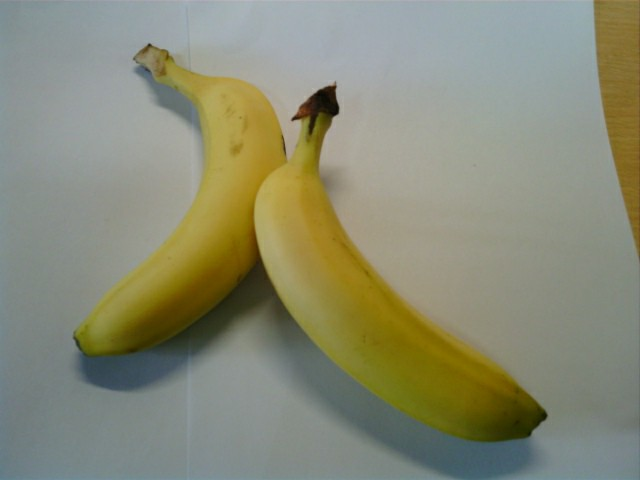fresh_banana: (251, 149, 544, 445), (81, 56, 285, 363)
